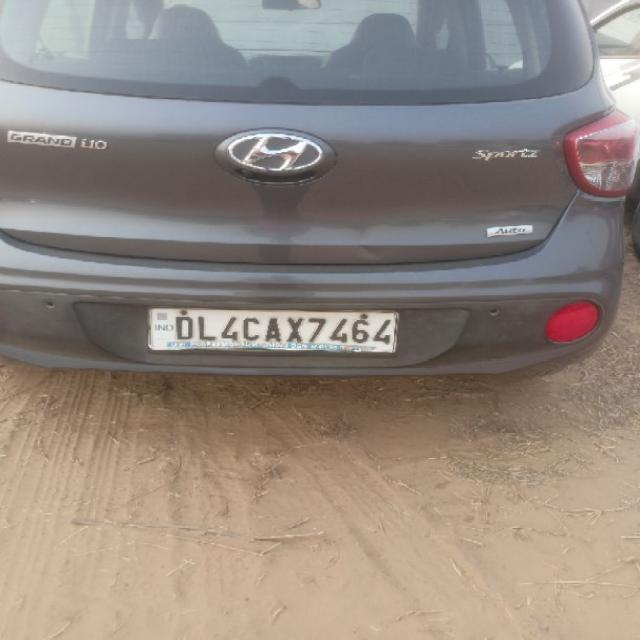license_plate: (146, 305, 400, 355)
